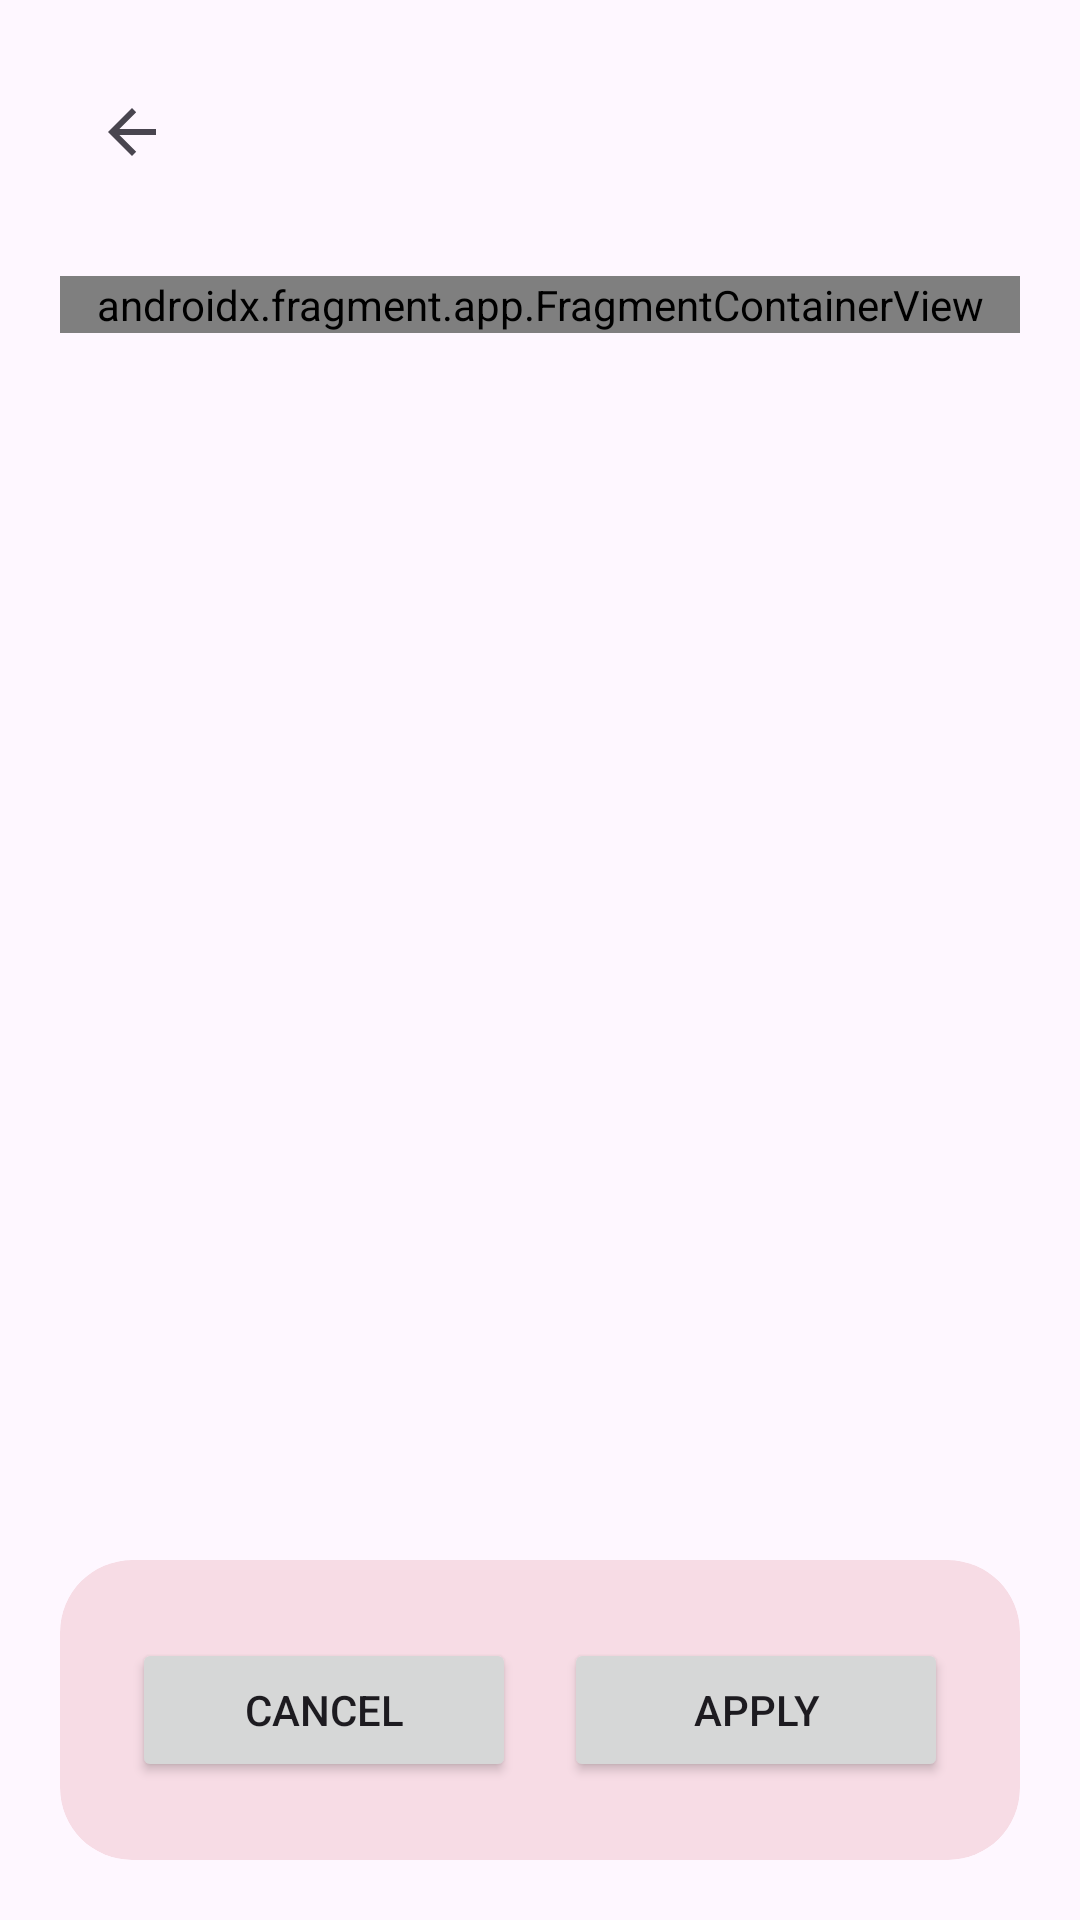

Where icons sit on this 1080*1920 app screen, as (x1, y1, x2, y2):
Go back: (108, 108, 156, 156)
